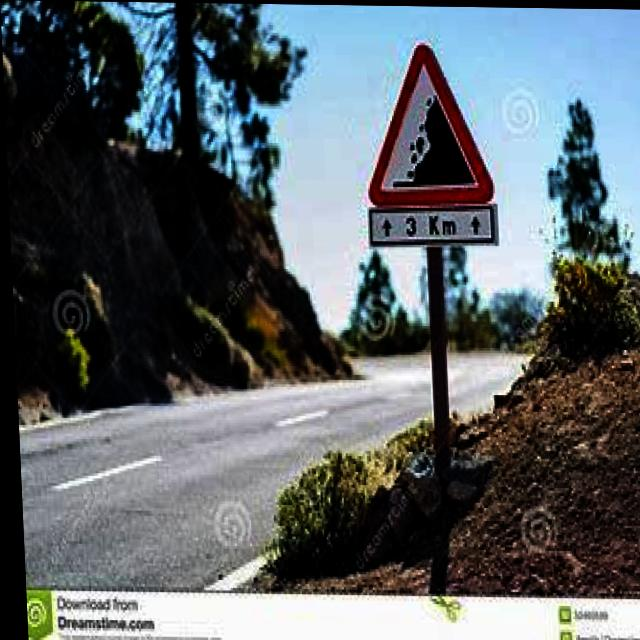FALLING_ROCKS: (362, 40, 497, 203)
